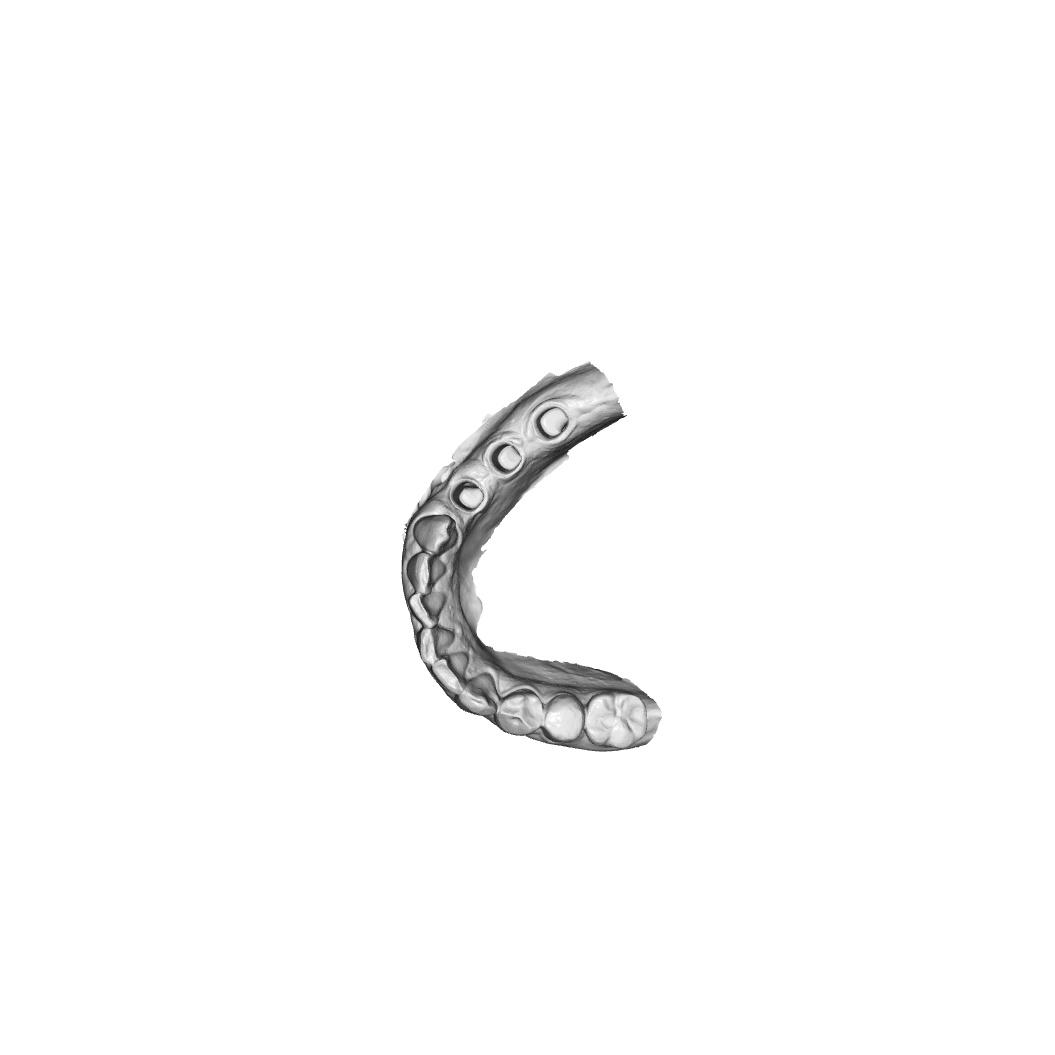abutment: (535, 406, 571, 440), (490, 442, 524, 475), (452, 480, 486, 513)
canine: (457, 671, 501, 721), (412, 513, 459, 557)
incisor: (406, 551, 449, 596), (430, 650, 471, 696), (417, 626, 456, 669), (407, 590, 449, 629)
molar: (584, 691, 647, 750)
premolar: (544, 692, 588, 745), (497, 688, 544, 737)
